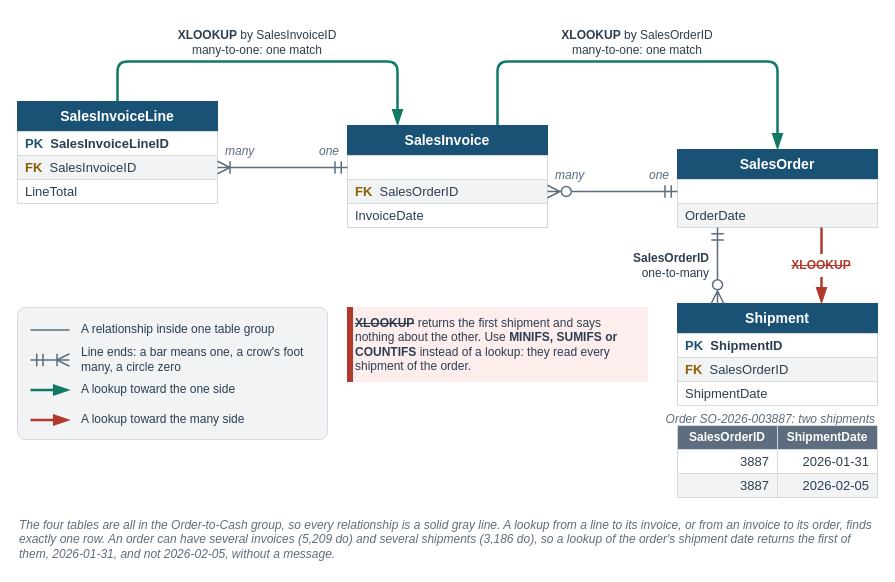
Image size: 895x582. Some labels were removed from this diagram. The centre of each missing label's shape, as x and y in pixels:
PK SalesInvoiceID: (x=447, y=167)
PK SalesOrderID: (x=777, y=191)
